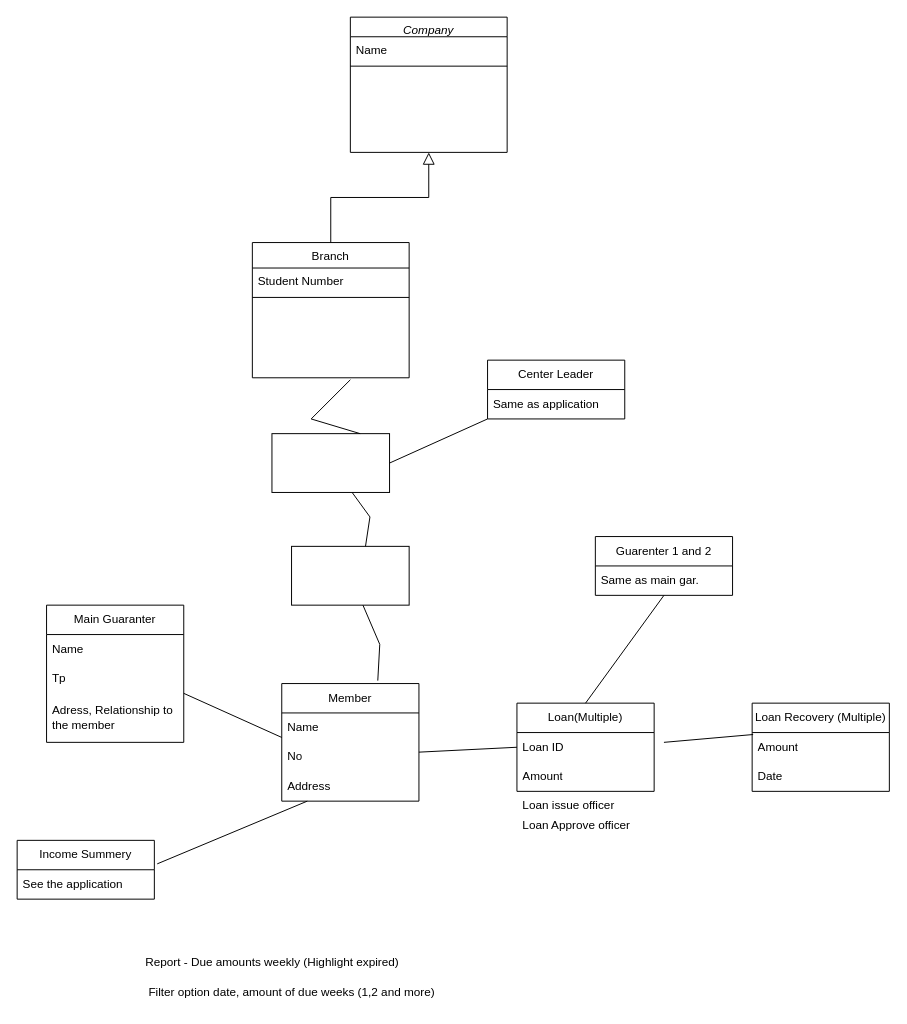
Some shapes in this 907 by 1024 pixel diagram are drawn without their labels. Here are the shapes that lost their labels. From the top down, the centre of each, then its label:
At (x=330, y=462): "Center".
At (x=350, y=575): "Group".
